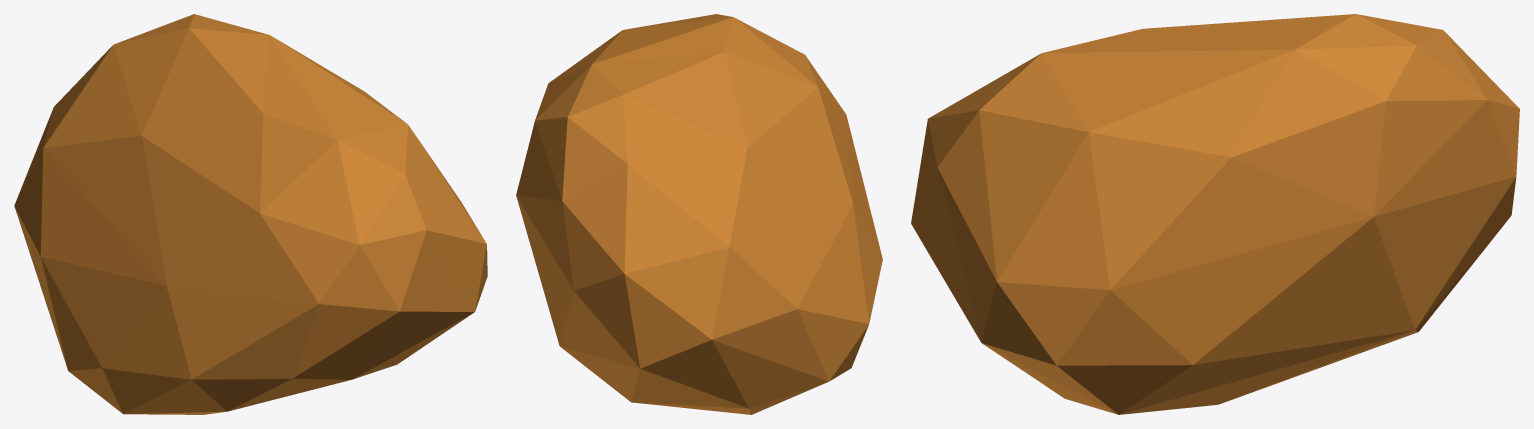
File: Pootato_1.fbx
3 renders of one model, left to right at view 1: azimuth 30°, elevation 25°; view 2: azimuth 150°, elevation 25°; view 3: azimuth 270°, elevation 25°, orthographic. The views are drawn at different scales.
Parts seen in each view (by area): view 1: Pootato_1; view 2: Pootato_1; view 3: Pootato_1.
Boxes of the visible parts, bbox=[...] form: Pootato_1: bbox=[14, 14, 487, 414]; Pootato_1: bbox=[516, 14, 882, 414]; Pootato_1: bbox=[911, 14, 1519, 414].
Bounding box in the file's own units: 6.37 × 5.55 × 8.06.
